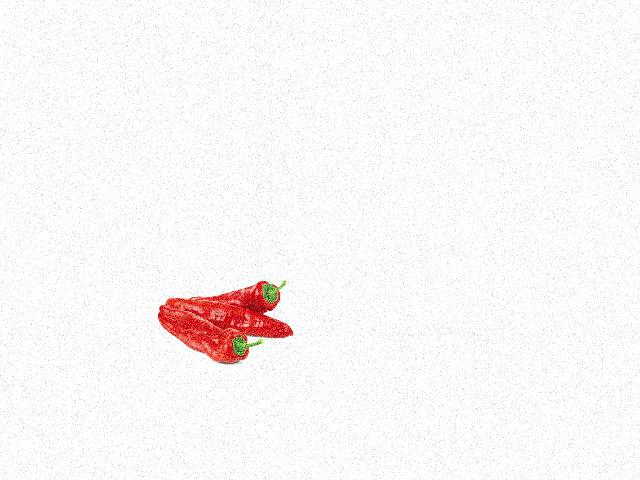bell_pepper: (156, 317, 265, 366)
